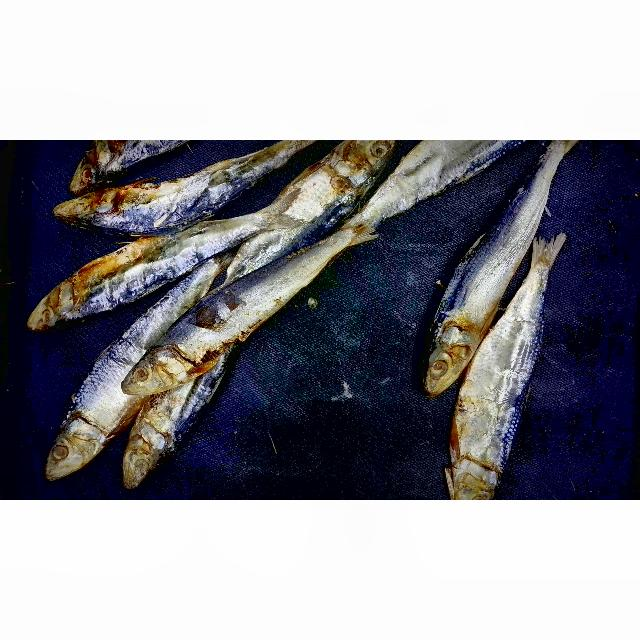Grade_B_Body: (234, 171, 365, 270), (188, 251, 298, 365), (440, 182, 540, 304), (126, 155, 256, 238), (96, 225, 205, 318), (471, 303, 534, 452)
Grade_B_Head: (33, 406, 115, 484), (13, 268, 93, 332), (120, 343, 194, 405), (108, 422, 167, 496), (424, 319, 476, 401), (434, 457, 509, 500), (46, 179, 112, 227), (62, 153, 116, 189)
Grade_B_Tail: (504, 238, 571, 342), (286, 220, 381, 291), (201, 185, 304, 249)
